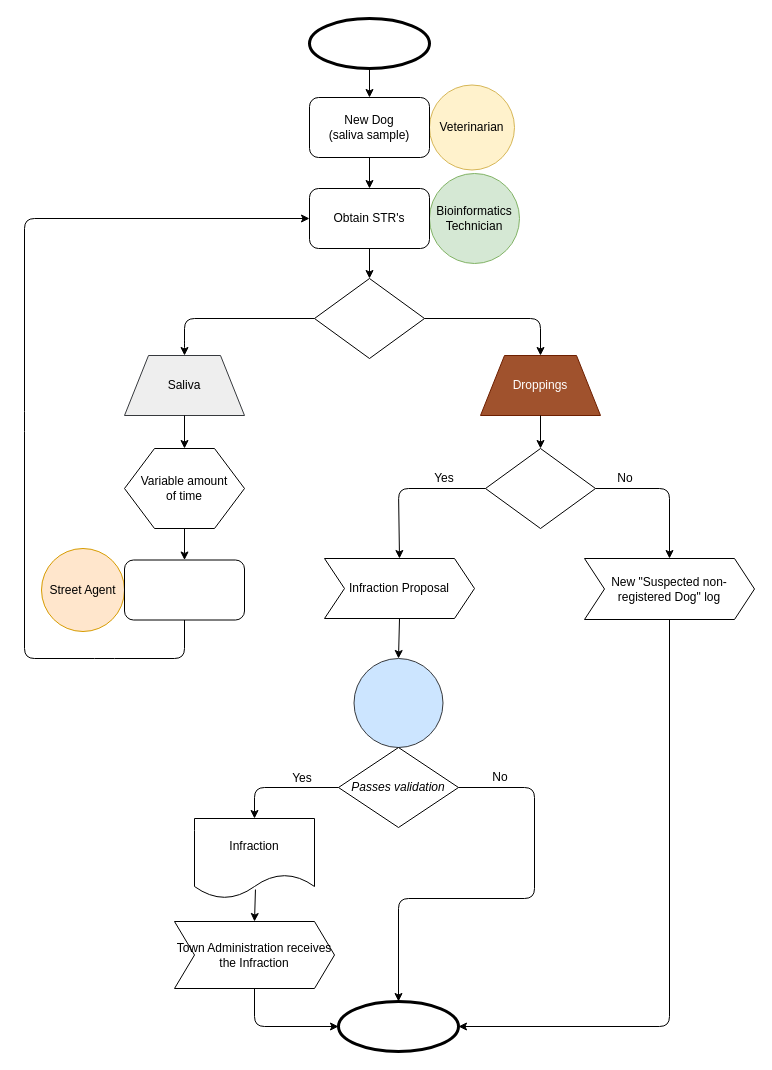
Image size: 772x1070. Some labels were removed from this diagram. The centre of each missing label's shape, as x and y in pixels:
END: the point at 398,1026
New Incident (droppings sample): the point at 184,589
Police Officer: the point at 398,703
Sample type: the point at 369,318
START: the point at 369,43
STR matching: the point at 540,488
